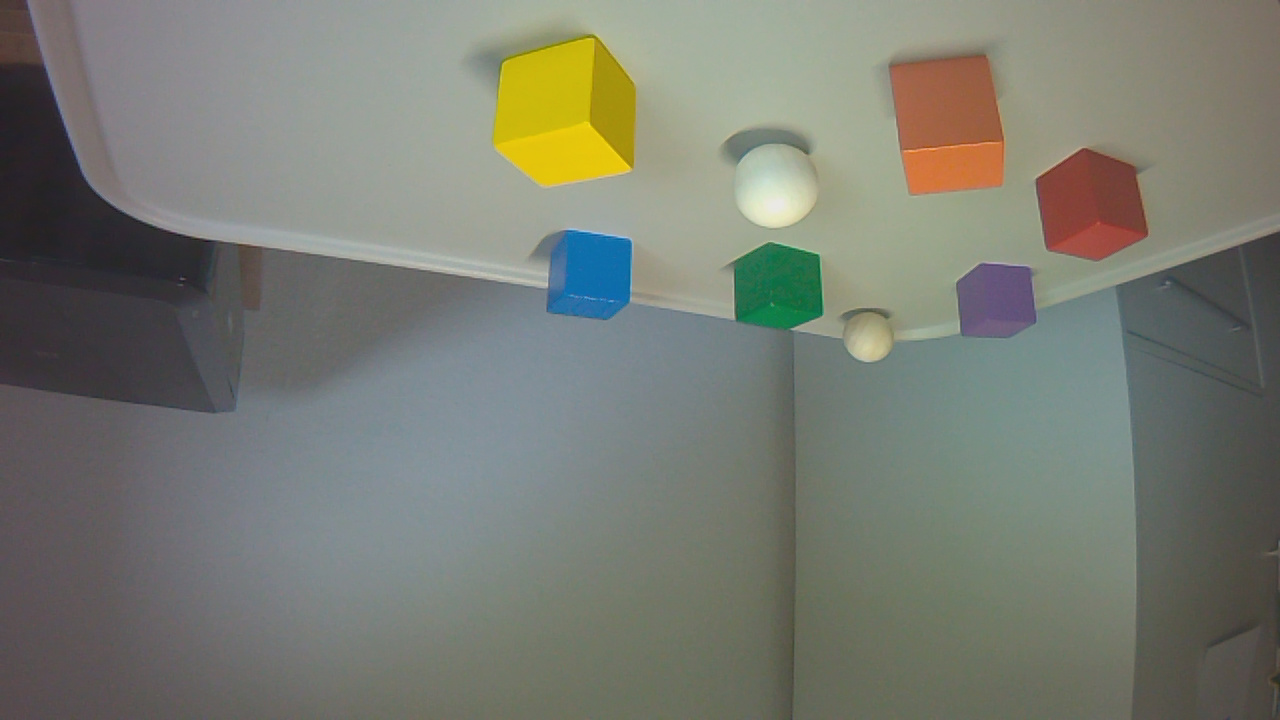ball: (734, 146, 828, 235), (845, 316, 900, 369)
cube_blue: (549, 233, 639, 327)
cube_green: (736, 245, 830, 336)
cube_orange: (892, 59, 1012, 202)
cube_purple: (958, 265, 1042, 346)
cube_red: (1037, 152, 1155, 269)
cube_yellow: (495, 37, 642, 194)
